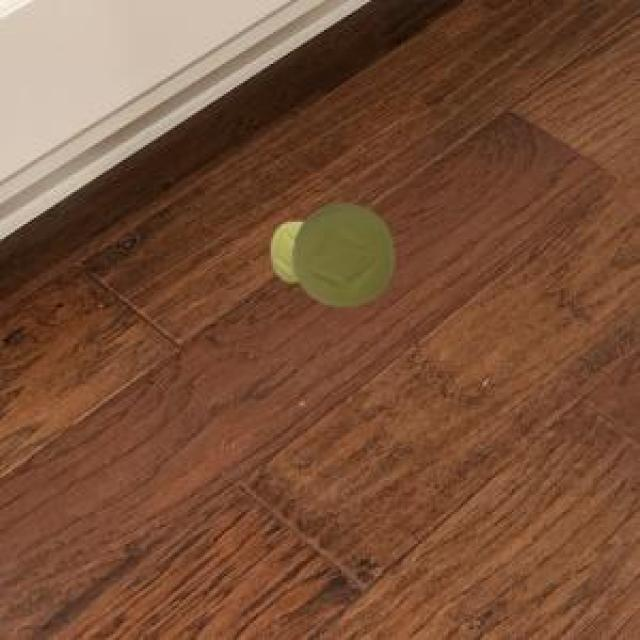Decolgen: (249, 185, 402, 321)
